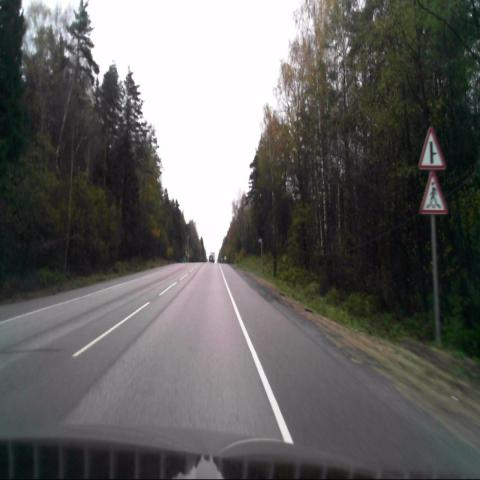1_22: (420, 171, 448, 214)
